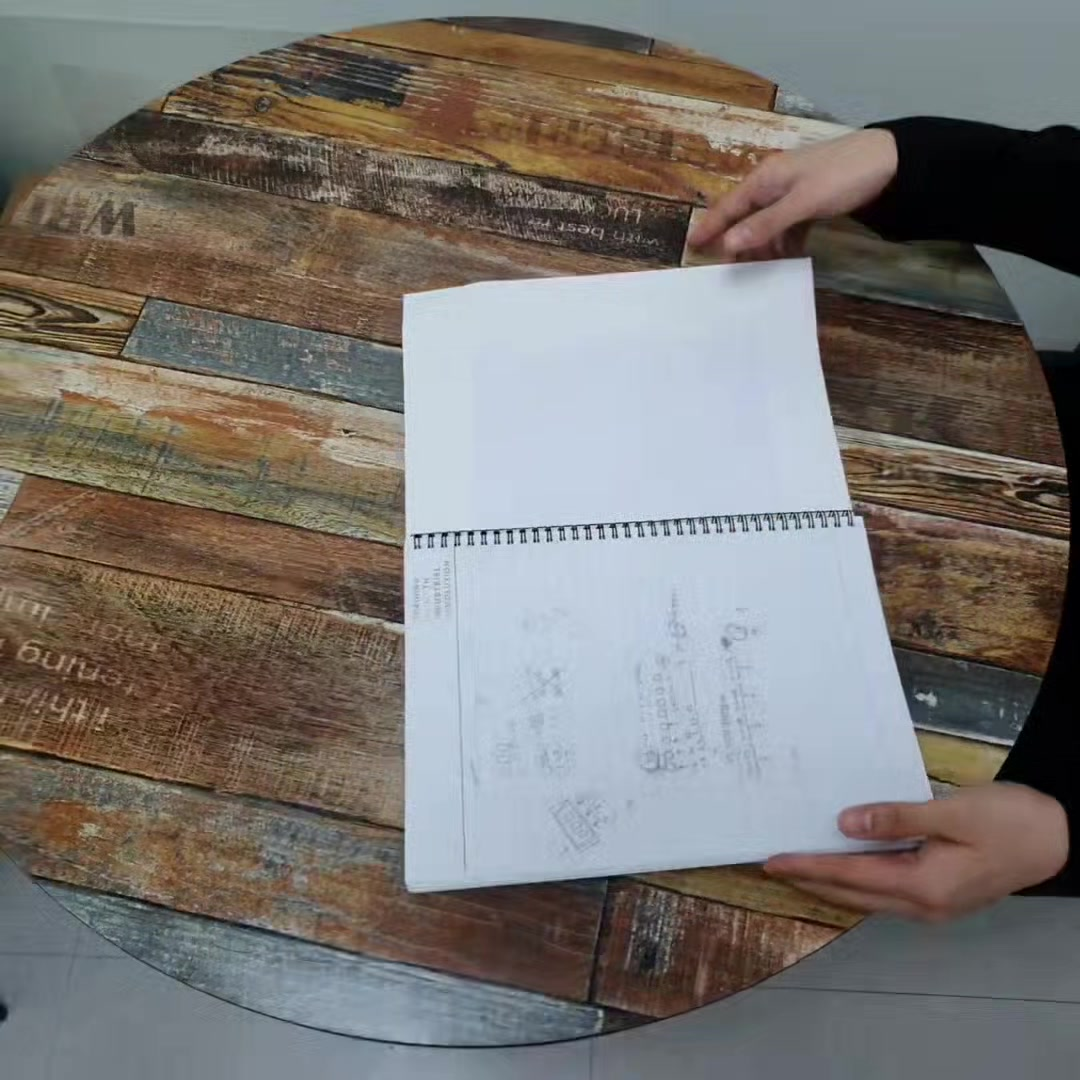book: (400, 253, 929, 886)
